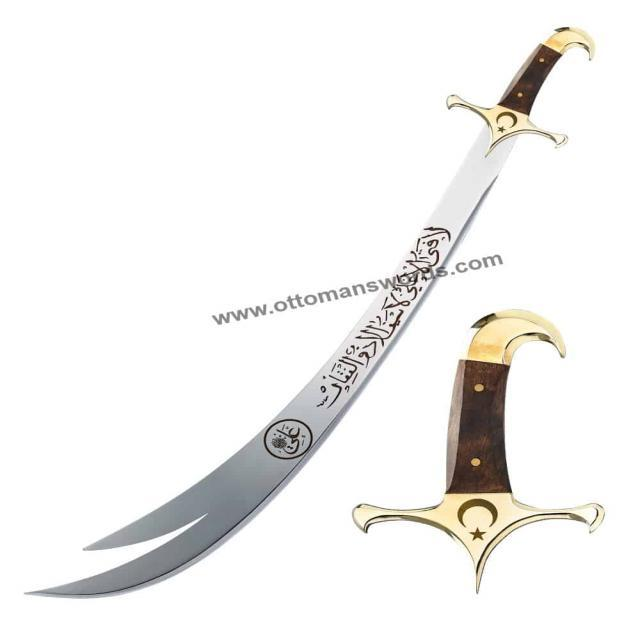cutlass: (34, 24, 605, 617)
